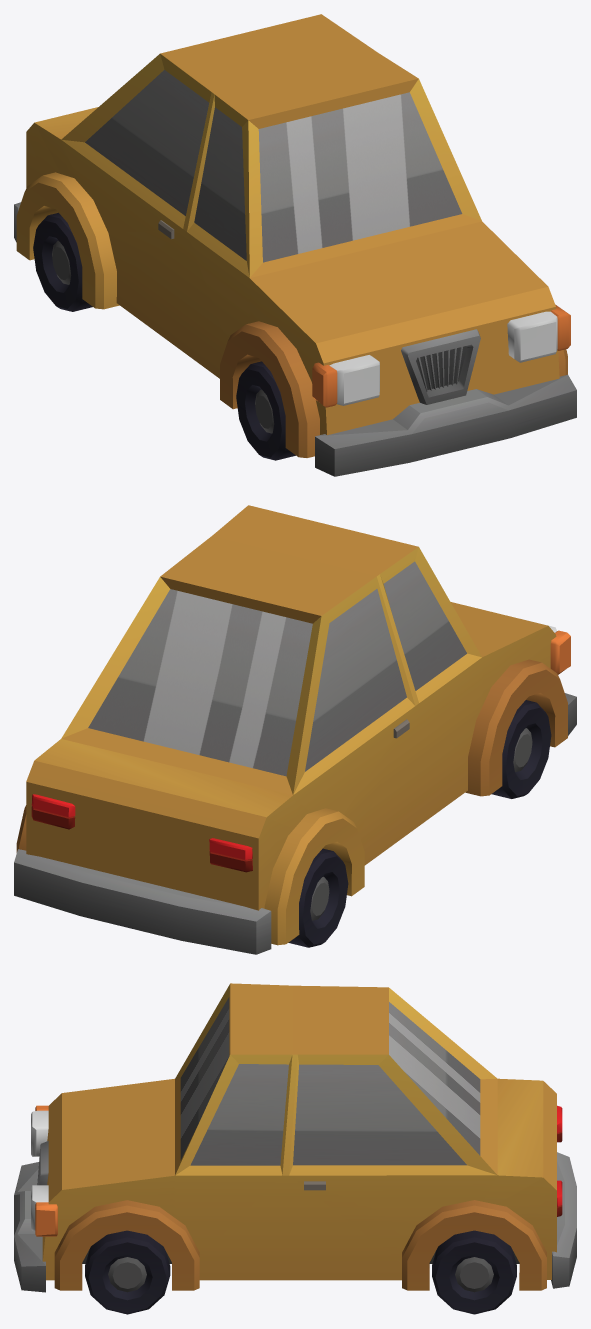
File: Car_4_11.glb
3 renders of one model, top to bottom at view 1: azimuth 30°, elevation 25°; view 2: azimuth 150°, elevation 25°; view 3: azimuth 270°, elevation 25°, orthographic. The views are drawn at different scales.
Visible parts, largest first — view 1: Car_4_11, BWhel_FR, BWhel_BR; view 2: Car_4_11, BWhel_BR, BWhel_FR; view 3: Car_4_11, BWhel_FL, BWhel_BL.
Part boxes in pixels (left/top/right/bottom): Car_4_11: left=14, top=14, right=576, bottom=476; BWhel_FR: left=236, top=361, right=295, bottom=460; BWhel_BR: left=33, top=212, right=92, bottom=311; Car_4_11: left=14, top=505, right=576, bottom=954; BWhel_BR: left=288, top=848, right=348, bottom=947; BWhel_FR: left=491, top=700, right=551, bottom=798; Car_4_11: left=14, top=983, right=576, bottom=1292; BWhel_FL: left=85, top=1230, right=170, bottom=1314; BWhel_BL: left=432, top=1230, right=516, bottom=1314.
Bounding box in the file's own units: 1.09 × 1.09 × 2.3.
6 materials, 6 textured.
